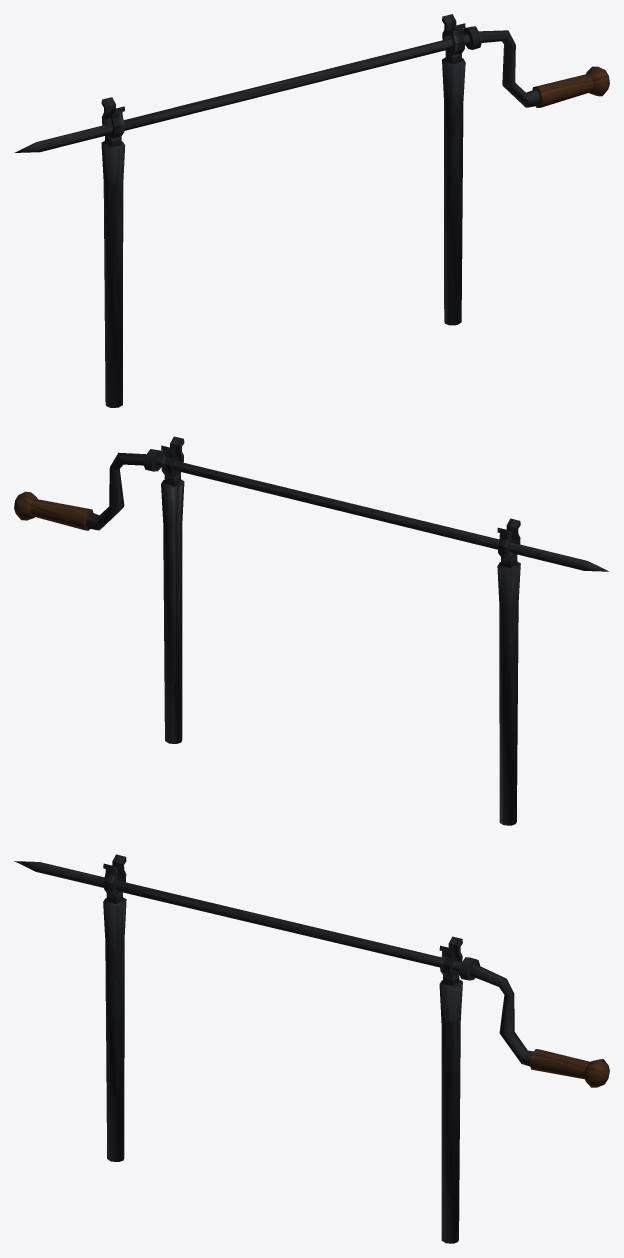
File: SM_PROP_campfire_poles_city.fbx
3 renders of one model, top to bottom at view 1: azimuth 30°, elevation 25°; view 2: azimuth 150°, elevation 25°; view 3: azimuth 330°, elevation 25°, orthographic.
Visible parts, largest first — view 1: SM_PROP_campfire_poles_city, SM_PROP_campfire_spitrod_city; view 2: SM_PROP_campfire_poles_city, SM_PROP_campfire_spitrod_city; view 3: SM_PROP_campfire_poles_city, SM_PROP_campfire_spitrod_city.
Part boxes in pixels (bbox=[...]): SM_PROP_campfire_poles_city: bbox=[101, 14, 465, 407]; SM_PROP_campfire_spitrod_city: bbox=[14, 26, 609, 152]; SM_PROP_campfire_poles_city: bbox=[161, 436, 520, 825]; SM_PROP_campfire_spitrod_city: bbox=[14, 449, 608, 571]; SM_PROP_campfire_poles_city: bbox=[103, 854, 462, 1243]; SM_PROP_campfire_spitrod_city: bbox=[14, 861, 609, 1087].
Bounding box in the file's own units: 200 × 96.23 × 9.85.
